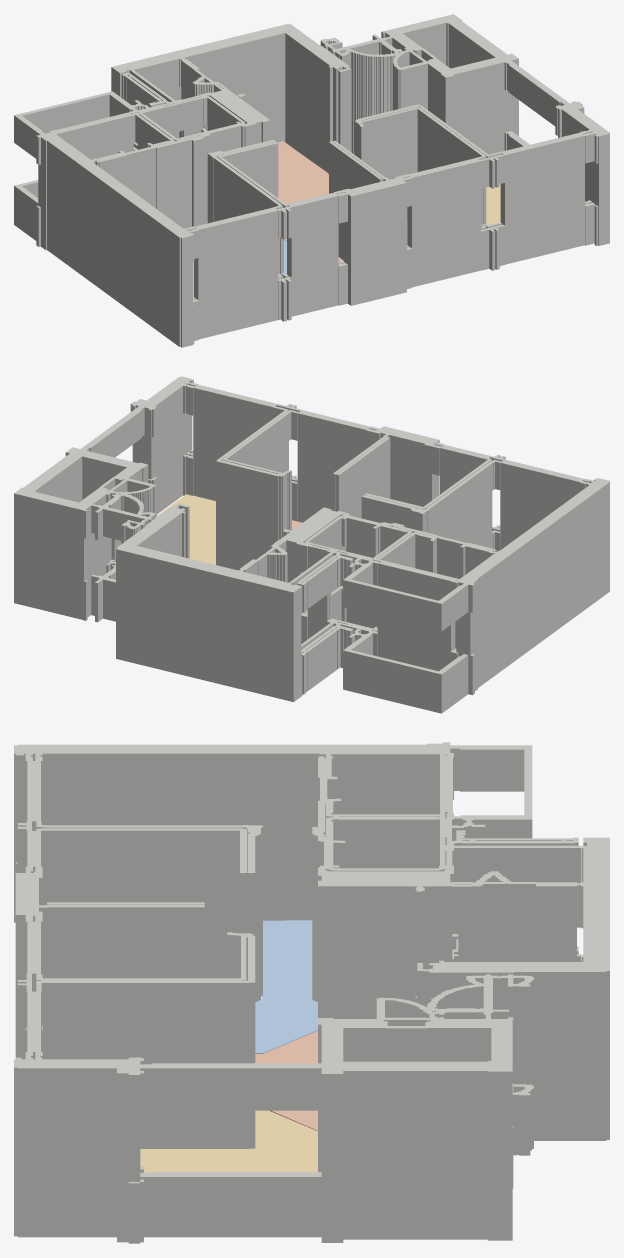
3 renders of one model, top to bottom at view 1: azimuth 30°, elevation 25°; view 2: azimuth 150°, elevation 25°; view 3: azimuth 270°, elevation 25°, orthographic. The views are drawn at different scales.
Visible parts, largest first — view 1: walls, room:kitchen:0, room:living:4; view 2: walls, room:living:4; view 3: walls, room:bedroom:3, room:living:4, room:kitchen:0.
Part boxes in pixels (bbox=[...]): walls: bbox=[14, 14, 609, 347]; room:kitchen:0: bbox=[277, 141, 407, 261]; room:living:4: bbox=[486, 184, 500, 224]; walls: bbox=[14, 376, 609, 713]; room:living:4: bbox=[156, 494, 215, 564]; walls: bbox=[14, 742, 609, 1243]; room:bedroom:3: bbox=[255, 920, 317, 1053]; room:living:4: bbox=[140, 1110, 317, 1172]; room:kitchen:0: bbox=[255, 1031, 317, 1130].
Bounding box in the file's own units: 11.82 × 2.8 × 8.95.
